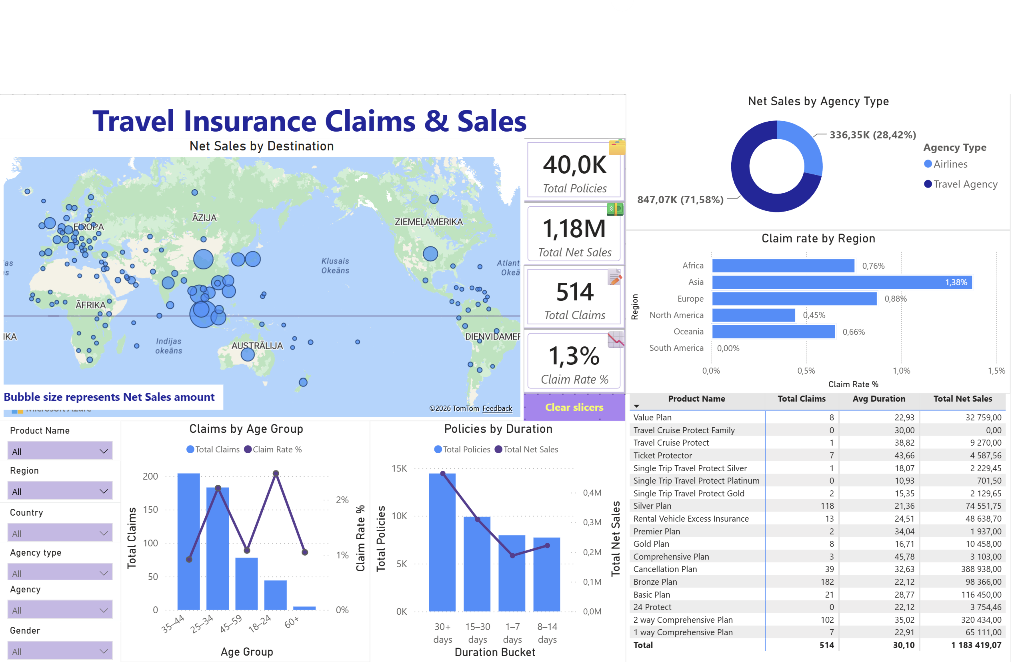

The dashboard page shown, as its layout file describes it:
{"tool":"powerbi","page":{"name":"Page 1","canvas":[1280,720],"ordinal":0},"visuals":[{"type":"cardVisual","fields":{"Data":["mydata.Total Policies"]},"box":[663.8,57.1,128.6,80.6],"z":0},{"type":"cardVisual","fields":{"Data":["mydata.Total Net Sales"]},"box":[663.8,137.7,128.6,80.6],"z":1000},{"type":"azureMap","title":"Net Sales by Destination","fields":{"Category":["mydata.Destination"],"Size":["mydata.Total Net Sales"]},"box":[0,57.1,663.8,356.8],"z":2000},{"type":"slicer","fields":{"Values":["mydata.Region"]},"box":[0,464.6,153.1,52.5],"z":3000},{"type":"slicer","fields":{"Values":["mydata.Destination"]},"box":[0,517.1,153.1,50.7],"z":4000},{"type":"lineClusteredColumnComboChart","title":"Claims by Age Group","fields":{"Category":["mydata.Age Group"],"Y":["mydata.Total Claims"],"Y2":["mydata.Claim Rate %"]},"box":[153.1,413.9,317,306.1],"z":5000},{"type":"slicer","fields":{"Values":["mydata.Product Name"]},"box":[0,413.9,153.1,50.7],"z":6000},{"type":"cardVisual","fields":{"Data":["mydata.Claim Rate %"]},"box":[663.8,298.9,128.6,80.6],"z":7000},{"type":"slicer","fields":{"Values":["mydata.Agency"]},"box":[0,614.9,153.1,53.4],"z":8000},{"type":"slicer","fields":{"Values":["mydata.Agency Type"]},"box":[0,567.8,153.1,47.1],"z":9000},{"type":"slicer","fields":{"Values":["mydata.Gender_Status"]},"box":[0,666.6,153.1,53.4],"z":10000},{"type":"textbox","box":[0,2.4,792.9,54.5],"z":11000},{"type":"pivotTable","fields":{"Rows":["mydata.Product Name"],"Values":["mydata.Total Claims","mydata.Avg Duration","mydata.Total Net Sales"]},"box":[792.9,372.1,487.1,348.4],"z":12000},{"type":"cardVisual","fields":{"Data":["mydata.Total Claims"]},"box":[663.8,218.3,128.6,80.6],"z":13000},{"type":"lineClusteredColumnComboChart","title":"Policies by Duration","fields":{"Category":["mydata.Duration Bucket"],"Y":["mydata.Total Policies"],"Y2":["mydata.Total Net Sales"]},"box":[468.1,413.6,324.7,307],"z":14000},{"type":"actionButton","box":[663.8,379.5,128.6,34.4],"z":15000},{"type":"donutChart","title":"Net Sales by Agency Type","fields":{"Category":["mydata.Agency Type"],"Y":["Sum(mydata.Net Sales)"]},"box":[792.9,0,487.1,173],"z":16000},{"type":"textbox","box":[760.8,290.7,52.5,48.9],"z":17000},{"type":"textbox","box":[759.8,124.1,52.5,49.8],"z":18000},{"type":"textbox","box":[758,211,55.2,48.9],"z":19000},{"type":"textbox","box":[762.6,47.1,47.1,40.8],"z":20000},{"type":"textbox","box":[770.7,2.7,19.9,54.3],"z":21000},{"type":"clusteredBarChart","title":"Claim rate by Region","fields":{"Category":["mydata.Region"],"Y":["mydata.Claim Rate %"]},"box":[792.9,173,487.1,206.2],"z":22000},{"type":"textbox","box":[0,368.6,283.3,32],"z":23000}]}

Visuals, with their boxes on the page's 1280x720 design canvas (x1, y1, x2, y2). These are canvas units, not pixel positions in the 1011x662 screenshot, which may show the page scaled, cropped or inside an application window:
cardVisual - mydata.Total Policies: 664, 57, 792, 138
cardVisual - mydata.Total Net Sales: 664, 138, 792, 218
"Net Sales by Destination" azureMap: 0, 57, 664, 414
slicer - mydata.Region: 0, 465, 153, 517
slicer - mydata.Destination: 0, 517, 153, 568
"Claims by Age Group" lineClusteredColumnComboChart: 153, 414, 470, 720
slicer - mydata.Product Name: 0, 414, 153, 465
cardVisual - mydata.Claim Rate %: 664, 299, 792, 380
slicer - mydata.Agency: 0, 615, 153, 668
slicer - mydata.Agency Type: 0, 568, 153, 615
slicer - mydata.Gender_Status: 0, 667, 153, 720
textbox: 0, 2, 793, 57
pivotTable - mydata.Product Name x mydata.Total Claims: 793, 372, 1280, 720
cardVisual - mydata.Total Claims: 664, 218, 792, 299
"Policies by Duration" lineClusteredColumnComboChart: 468, 414, 793, 721
actionButton: 664, 380, 792, 414
"Net Sales by Agency Type" donutChart: 793, 0, 1280, 173
textbox: 761, 291, 813, 340
textbox: 760, 124, 812, 174
textbox: 758, 211, 813, 260
textbox: 763, 47, 810, 88
textbox: 771, 3, 791, 57
"Claim rate by Region" clusteredBarChart: 793, 173, 1280, 379
textbox: 0, 369, 283, 401
